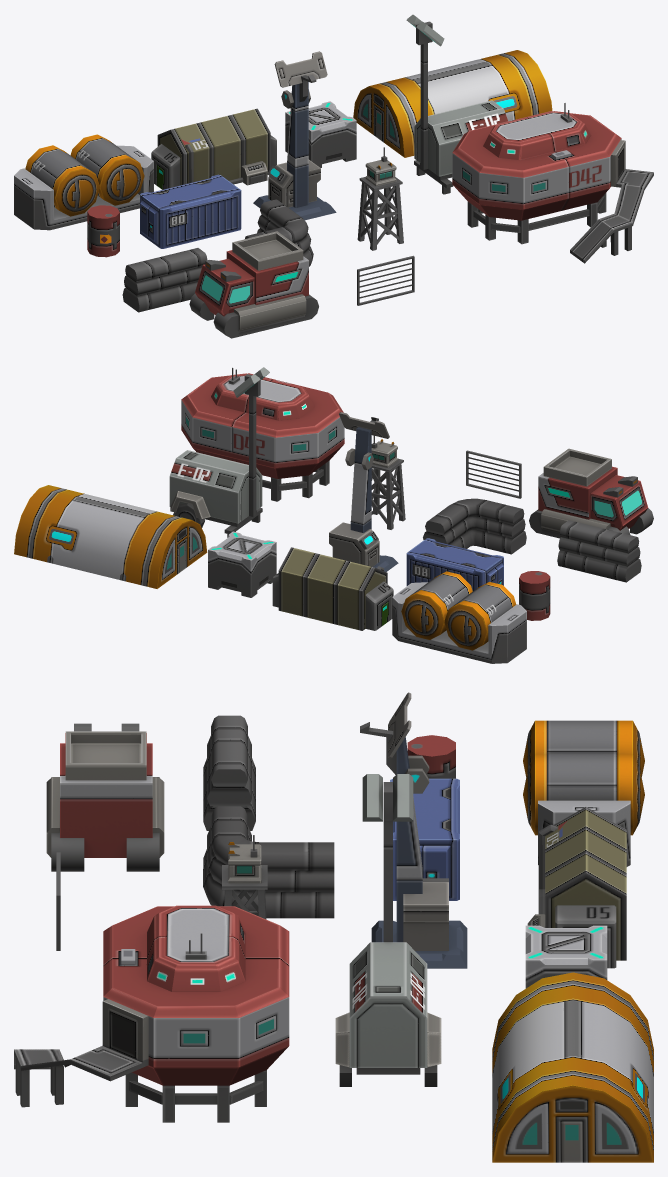
Rendered from asse.FBX.
3 renders of one model, top to bottom at view 1: azimuth 30°, elevation 25°; view 2: azimuth 150°, elevation 25°; view 3: azimuth 270°, elevation 25°, orthographic. The views are drawn at different scales.
Visible parts, largest first — view 1: asse13, asse12, asse03, asse00, asse01, asse05, asse06, asse07, asse08, asse10, asse02, asse09 (+2 smaller); view 2: asse13, asse12, asse00, asse03, asse01, asse07, asse06, asse09, asse08, asse02, asse05, asse10 (+2 smaller); view 3: asse13, asse12, asse07, asse03, asse00, asse01, asse06, asse09, asse05, asse08, asse02, asse10 (+1 smaller).
Boxes of the visible parts, x1=… form: asse13: x1=452, y1=103, x2=653, y2=263; asse12: x1=353, y1=50, x2=552, y2=157; asse03: x1=189, y1=231, x2=318, y2=338; asse00: x1=14, y1=134, x2=153, y2=230; asse01: x1=151, y1=108, x2=276, y2=189; asse05: x1=140, y1=174, x2=241, y2=248; asse06: x1=253, y1=51, x2=336, y2=220; asse07: x1=406, y1=14, x2=507, y2=194; asse08: x1=122, y1=248, x2=207, y2=312; asse10: x1=357, y1=147, x2=403, y2=250; asse02: x1=285, y1=101, x2=356, y2=167; asse09: x1=245, y1=199, x2=313, y2=266; asse13: x1=181, y1=367, x2=344, y2=501; asse12: x1=14, y1=485, x2=207, y2=588; asse00: x1=392, y1=571, x2=526, y2=663; asse03: x1=529, y1=448, x2=653, y2=538; asse01: x1=272, y1=547, x2=393, y2=630; asse07: x1=169, y1=367, x2=269, y2=537; asse06: x1=329, y1=412, x2=398, y2=571; asse09: x1=423, y1=498, x2=526, y2=554; asse08: x1=557, y1=520, x2=641, y2=582; asse02: x1=208, y1=531, x2=276, y2=597; asse05: x1=406, y1=538, x2=503, y2=591; asse10: x1=371, y1=435, x2=405, y2=529; asse13: x1=14, y1=905, x2=289, y2=1122; asse12: x1=492, y1=972, x2=653, y2=1162; asse07: x1=335, y1=774, x2=441, y2=1086; asse03: x1=46, y1=723, x2=164, y2=871; asse00: x1=523, y1=720, x2=644, y2=866; asse01: x1=527, y1=807, x2=626, y2=968; asse06: x1=360, y1=692, x2=467, y2=968; asse09: x1=203, y1=806, x2=334, y2=918; asse05: x1=390, y1=778, x2=459, y2=900; asse08: x1=203, y1=715, x2=255, y2=830; asse02: x1=525, y1=925, x2=607, y2=988; asse10: x1=222, y1=835, x2=267, y2=919.
Bounding box in the file's own units: 896 × 291 × 629.
